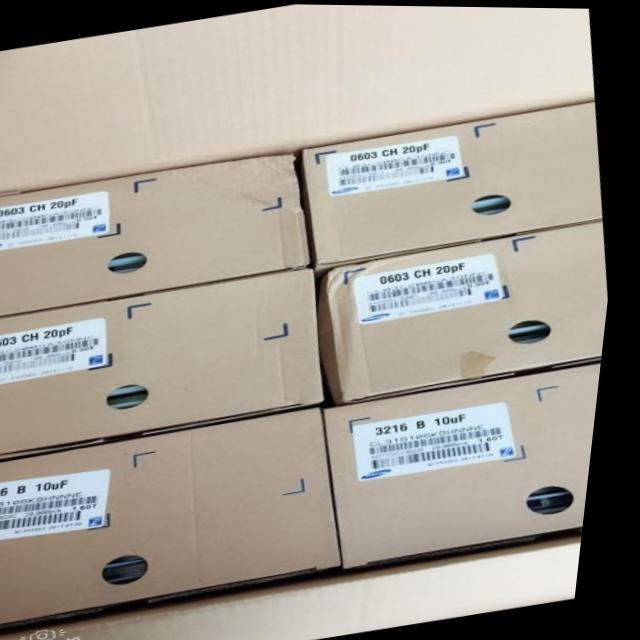box: (0, 405, 354, 630), (0, 264, 332, 459), (331, 360, 609, 567), (306, 100, 606, 284), (323, 218, 614, 402), (0, 152, 315, 317)
